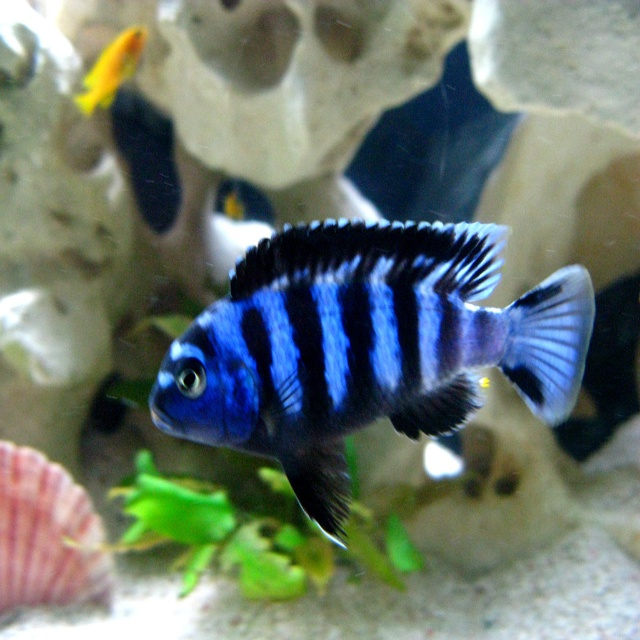Fish: (155, 207, 610, 559), (79, 21, 148, 108)
